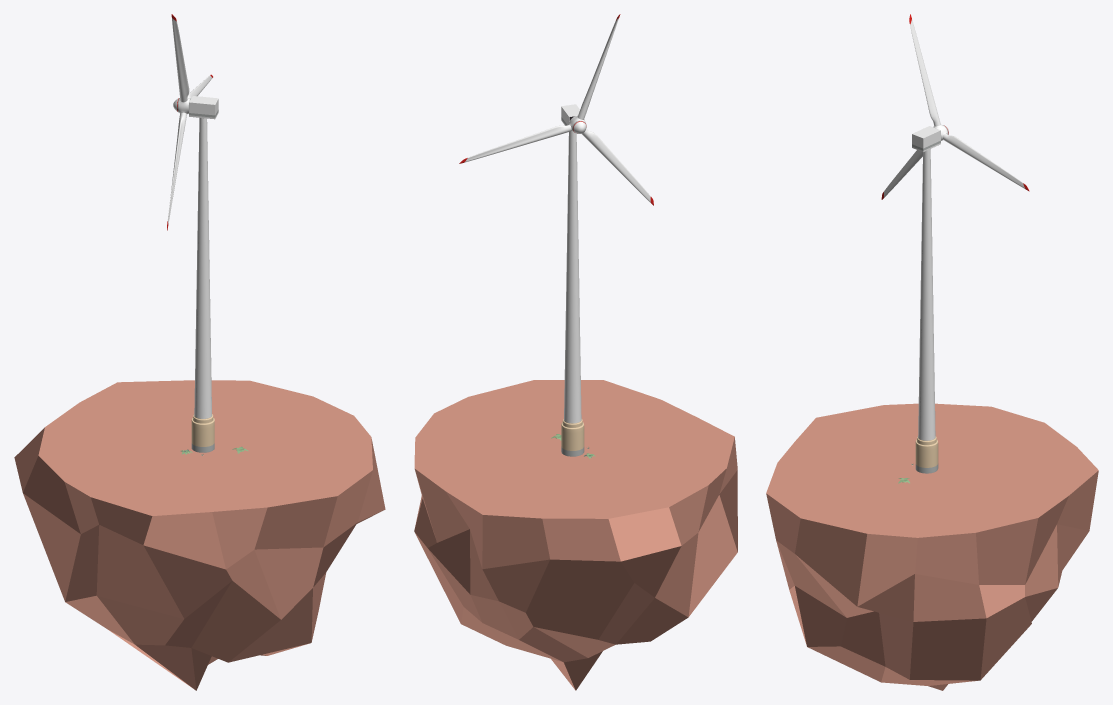
The model's file is WIND TURBINE.fbx.
3 renders of one model, left to right at view 1: azimuth 30°, elevation 25°; view 2: azimuth 150°, elevation 25°; view 3: azimuth 270°, elevation 25°, orthographic. The views are drawn at different scales.
Parts seen in each view (by area): view 1: Roundcube_001, Cylinder_003, Cylinder, Cube_Cube_002; view 2: Roundcube_001, Cylinder_003, Cylinder_002_Cylinder, Cylinder_001_Cylinder, Cylinder; view 3: Roundcube_001, Cylinder_003, Cylinder, Cylinder_002_Cylinder, Cube_Cube_002.
Part boxes in pixels (x1,y1,x2,y2): Roundcube_001: [14, 380, 385, 690]; Cylinder_003: [191, 117, 214, 452]; Cylinder: [171, 14, 189, 102]; Cube_Cube_002: [189, 96, 218, 119]; Roundcube_001: [414, 380, 737, 690]; Cylinder_003: [561, 131, 584, 456]; Cylinder_002_Cylinder: [459, 124, 571, 163]; Cylinder_001_Cylinder: [581, 129, 653, 205]; Cylinder: [577, 14, 620, 119]; Roundcube_001: [766, 403, 1098, 690]; Cylinder_003: [915, 149, 938, 473]; Cylinder: [909, 14, 940, 126]; Cylinder_002_Cylinder: [942, 133, 1029, 191]; Cube_Cube_002: [912, 126, 940, 152].
Bounding box in the file's own units: 25.19 × 55.86 × 25.38.
Materials: 2 (2 with a texture image).
